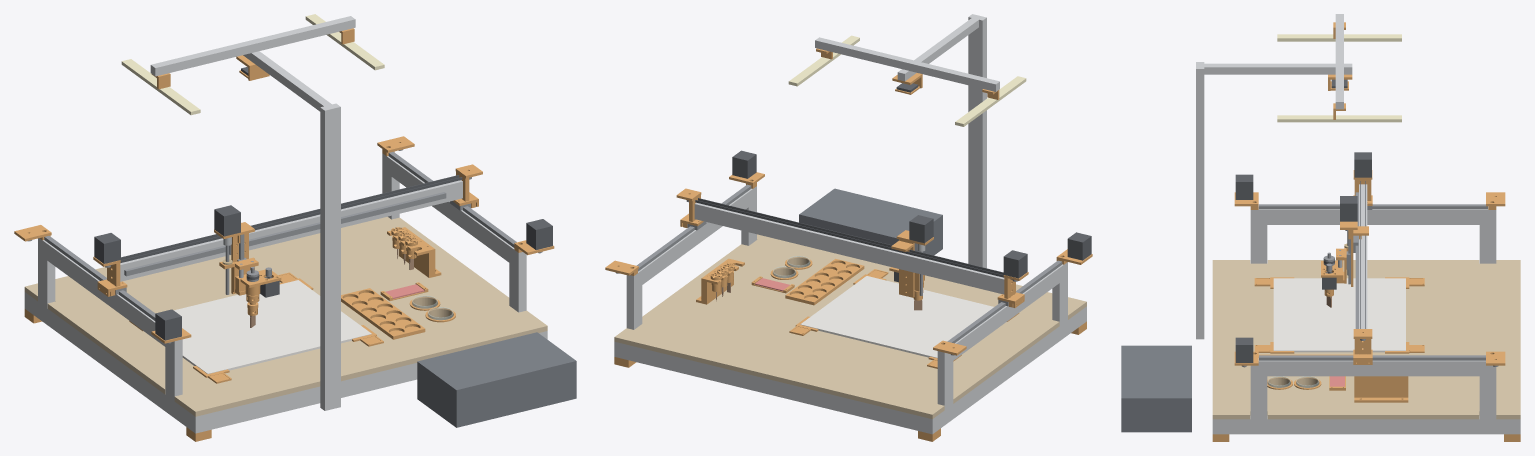
Rendered from machine_assembly.glb.
The picture shows the model from 3 angles, left to right: view 1: azimuth 30°, elevation 25°; view 2: azimuth 150°, elevation 25°; view 3: azimuth 270°, elevation 25°; orthographic projection. The views are drawn at different scales.
Visible parts, largest first — view 1: 014_deck_mdf, 000_frame_2040, 042_electronics_box, 015_canvas_board, 034_camera_mast_2040, 064_beam_2040_X, 035_camera_arm_2020, 065_mgn12_rail_x, 020_palette_tray, 070_belt_X, 001_mgn12_rails_y, 027_tool_rack (+10 smaller); view 2: 014_deck_mdf, 000_frame_2040, 015_canvas_board, 064_beam_2040_X, 042_electronics_box, 034_camera_mast_2040, 035_camera_arm_2020, 070_belt_X, 020_palette_tray, 001_mgn12_rails_y, 056_x_carriage, 039_led_bar (+8 smaller); view 3: 014_deck_mdf, 000_frame_2040, 015_canvas_board, 042_electronics_box, 035_camera_arm_2020, 034_camera_mast_2040, 001_mgn12_rails_y, 027_tool_rack, 064_beam_2040_X, 041_led_bar, 039_led_bar, 063_gantry_end_R (+6 smaller).
Boxes of the visible parts, x1,y1,x2,y2 form: 014_deck_mdf: [24, 216, 547, 416]; 000_frame_2040: [24, 153, 547, 433]; 042_electronics_box: [417, 332, 576, 427]; 015_canvas_board: [174, 280, 371, 373]; 034_camera_mast_2040: [320, 103, 340, 410]; 064_beam_2040_X: [120, 180, 462, 281]; 035_camera_arm_2020: [150, 16, 355, 111]; 065_mgn12_rail_x: [124, 192, 446, 276]; 020_palette_tray: [341, 288, 425, 339]; 070_belt_X: [109, 175, 469, 265]; 001_mgn12_rails_y: [44, 151, 516, 320]; 027_tool_rack: [387, 227, 441, 277]; 014_deck_mdf: [614, 234, 1086, 419]; 000_frame_2040: [614, 186, 1086, 434]; 015_canvas_board: [800, 276, 993, 357]; 064_beam_2040_X: [694, 202, 1004, 294]; 042_electronics_box: [799, 188, 942, 255]; 034_camera_mast_2040: [968, 14, 986, 268]; 035_camera_arm_2020: [815, 18, 999, 91]; 070_belt_X: [688, 198, 1013, 279]; 020_palette_tray: [785, 258, 864, 305]; 001_mgn12_rails_y: [636, 184, 1062, 343]; 056_x_carriage: [891, 230, 933, 297]; 039_led_bar: [955, 76, 1026, 126]; 014_deck_mdf: [1212, 260, 1520, 419]; 000_frame_2040: [1212, 207, 1520, 434]; 015_canvas_board: [1273, 278, 1405, 352]; 042_electronics_box: [1121, 345, 1191, 432]; 035_camera_arm_2020: [1204, 14, 1352, 109]; 034_camera_mast_2040: [1196, 62, 1204, 339]; 001_mgn12_rails_y: [1259, 204, 1487, 360]; 027_tool_rack: [1354, 376, 1408, 402]; 064_beam_2040_X: [1359, 184, 1367, 348]; 041_led_bar: [1277, 115, 1401, 122]; 039_led_bar: [1277, 34, 1401, 41]; 063_gantry_end_R: [1353, 329, 1372, 364].
Size of the model in its own units: 0.9731 by 0.757 by 0.96.
